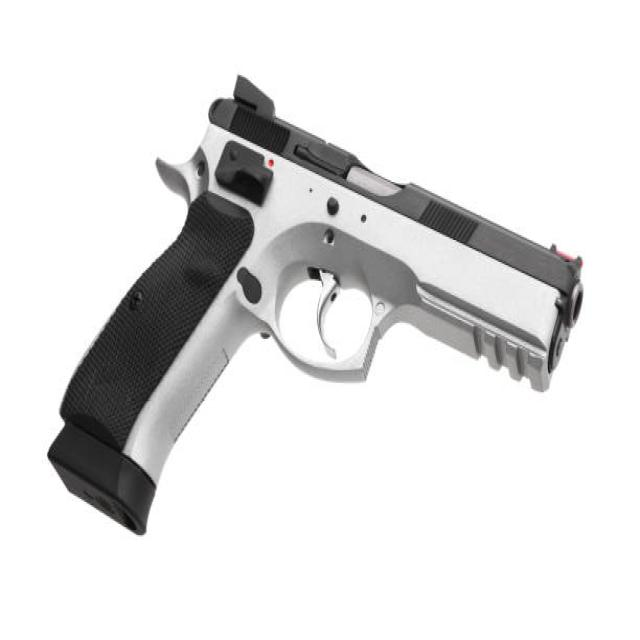pistol: (44, 52, 592, 540)
